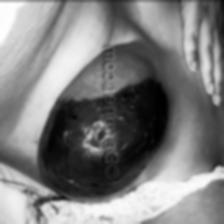Toxin: (56, 106, 96, 190)
